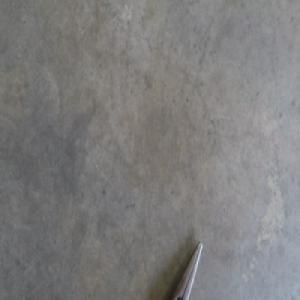Pliers: (171, 240, 202, 298)
